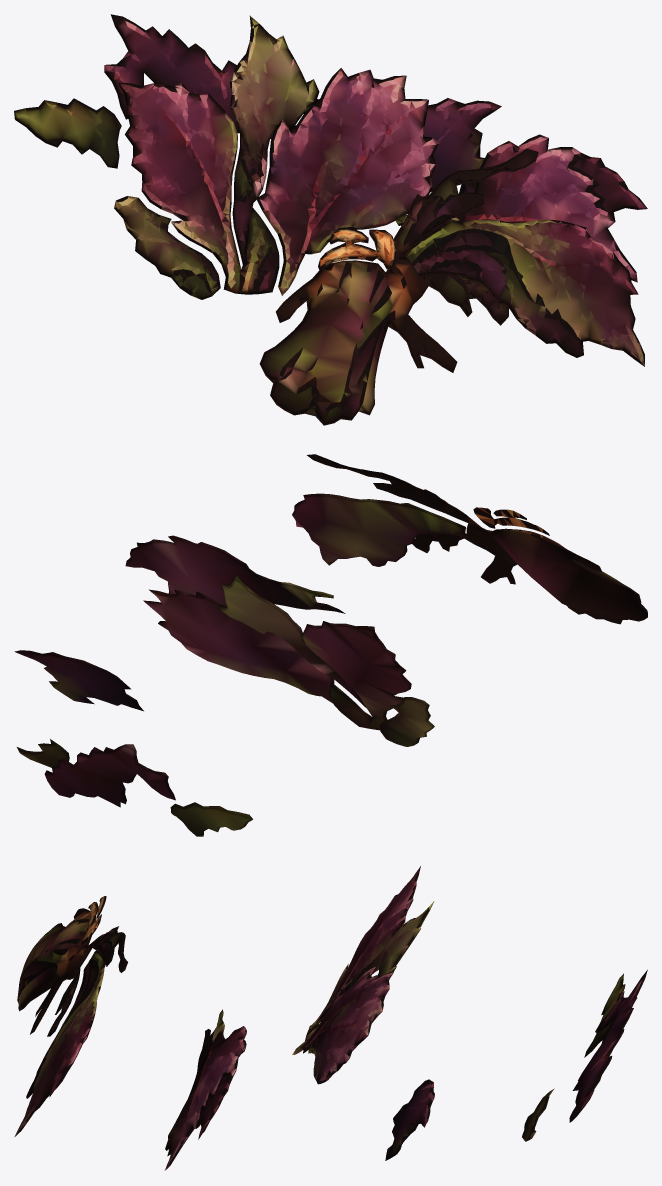
File: SM_perilla.fbx
3 views of the same model, one above another, from view 1: azimuth 30°, elevation 25°; view 2: azimuth 150°, elevation 25°; view 3: azimuth 270°, elevation 25° (orthographic). The views are drawn at different scales.
Visible parts, largest first — view 1: SM_perilla; view 2: SM_perilla; view 3: SM_perilla.
Boxes of the visible parts, x1,y1,x2,y2 form: SM_perilla: [14, 14, 647, 425]; SM_perilla: [14, 454, 647, 836]; SM_perilla: [14, 866, 647, 1170].
Bounding box in the file's own units: 0.2228 × 0.0934 × 0.3049.
